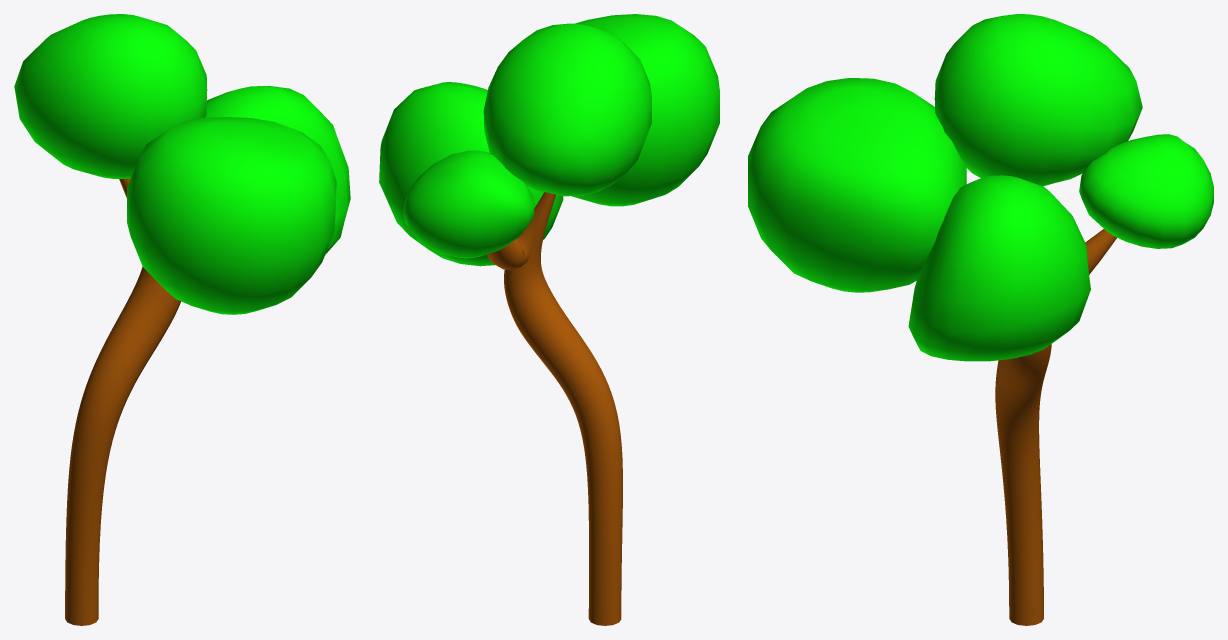
Rendered from Tree1.fbx.
The picture shows the model from 3 angles, left to right: view 1: azimuth 30°, elevation 25°; view 2: azimuth 150°, elevation 25°; view 3: azimuth 270°, elevation 25°; orthographic projection. The views are drawn at different scales.
Visible parts, largest first — view 1: Object; view 2: Object; view 3: Object.
Boxes of the visible parts, bbox=[...] form: Object: bbox=[14, 14, 350, 625]; Object: bbox=[379, 14, 719, 625]; Object: bbox=[748, 14, 1213, 625].
Bounding box in the file's own units: 180 × 362 × 249.
